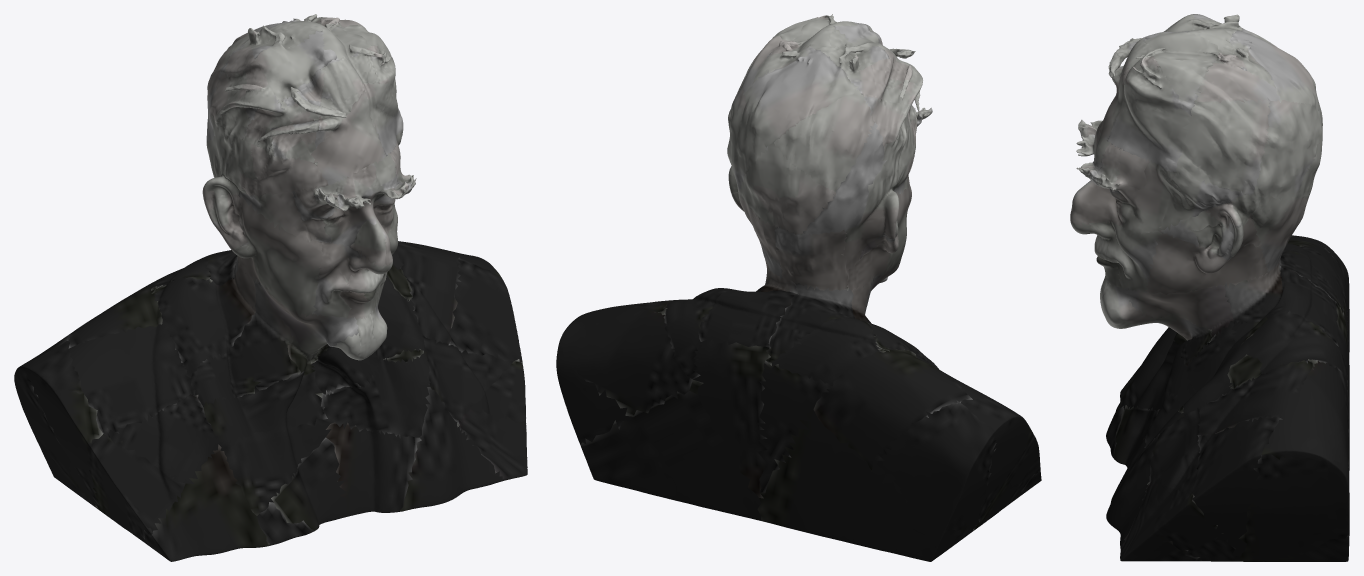
The model's file is Weathered_Profile_Compressed_Valid.glb.
3 renders of one model, left to right at view 1: azimuth 30°, elevation 25°; view 2: azimuth 150°, elevation 25°; view 3: azimuth 270°, elevation 25°, orthographic. The views are drawn at different scales.
Size of the model in its own units: 1.9 by 1.85 by 1.04.
1 material, 1 textured.
